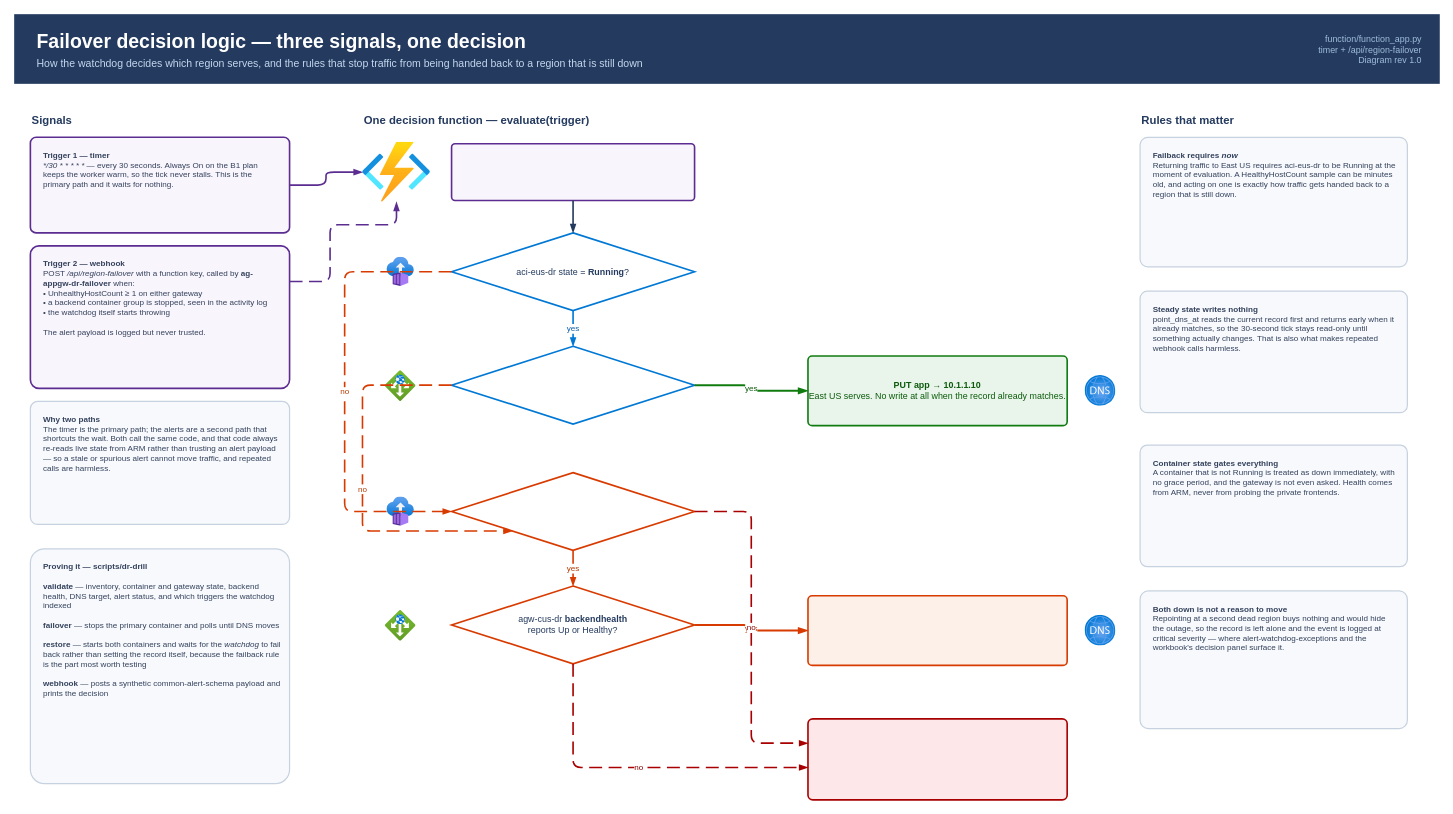
Image size: 1453x814. Some labels were removed from this diagram. The centre of each missing label's shape, as x and y in pixels:
"aci-cus-dr state = Running ?" belongs at (572,511).
"agw-eus-dr backendhealth reports Up or Healthy?" belongs at (572,384).
"evaluate(trigger) re-reads live ARM state on every call" belongs at (572,172).
"Neither region is up log at critical severity and leave DNS exactly where it is" belongs at (937,759).
"PUT app → 10.2.1.10 Central US serves within one TTL" belongs at (937,630).
